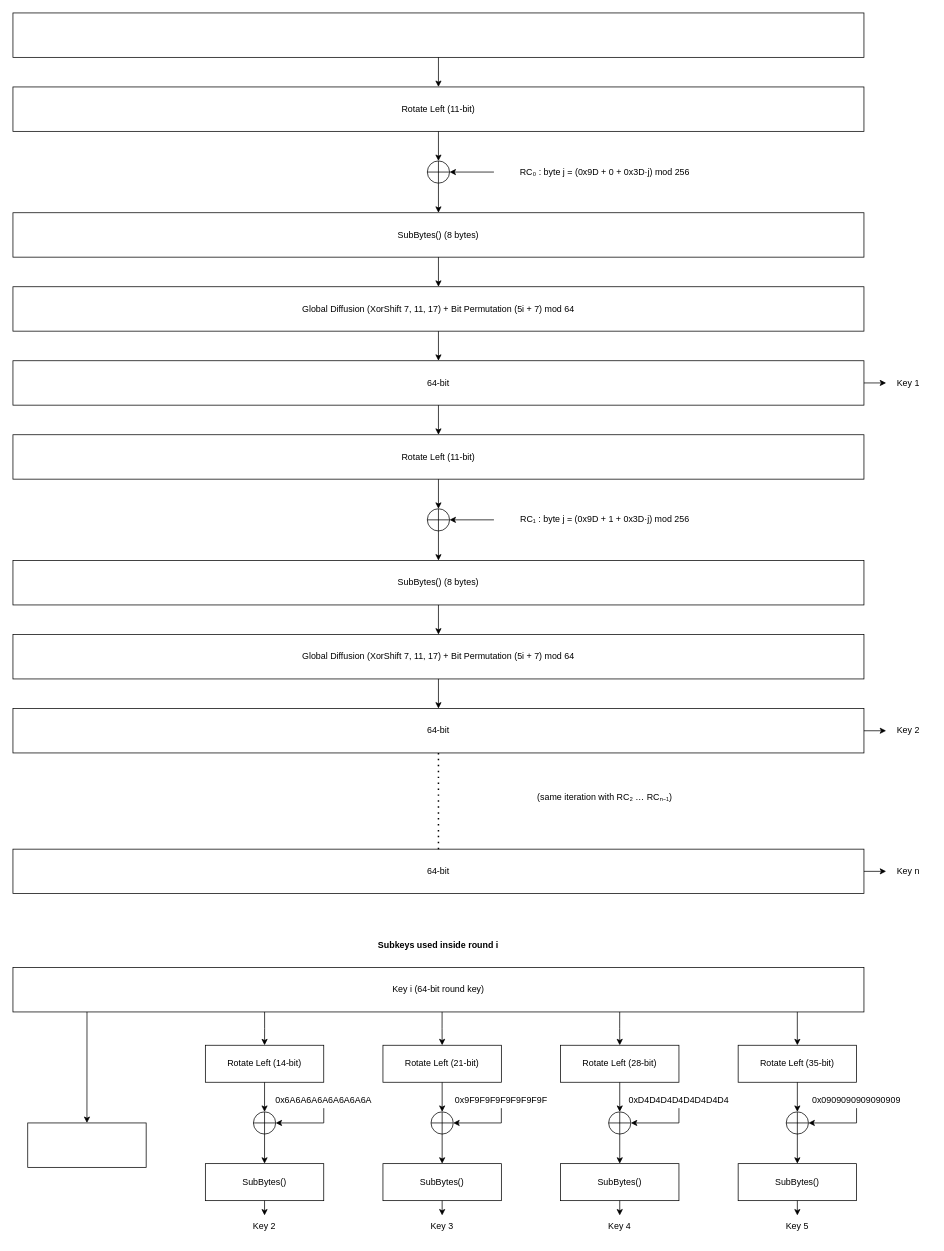
Some shapes in this 944 by 1251 pixel diagram are drawn without their labels. The box of each missing label's shape, as (x1, y1, x2, y2) in pixels:
64 bit master key: (12, 12, 864, 57)
Key 1 = Key i (used directly): (27, 1122, 146, 1167)
